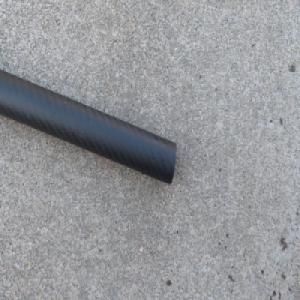LuggagePart: (0, 68, 178, 188)
